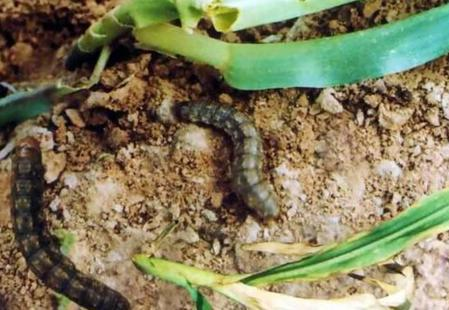caterpillars: (0, 126, 147, 310), (161, 80, 320, 232)
